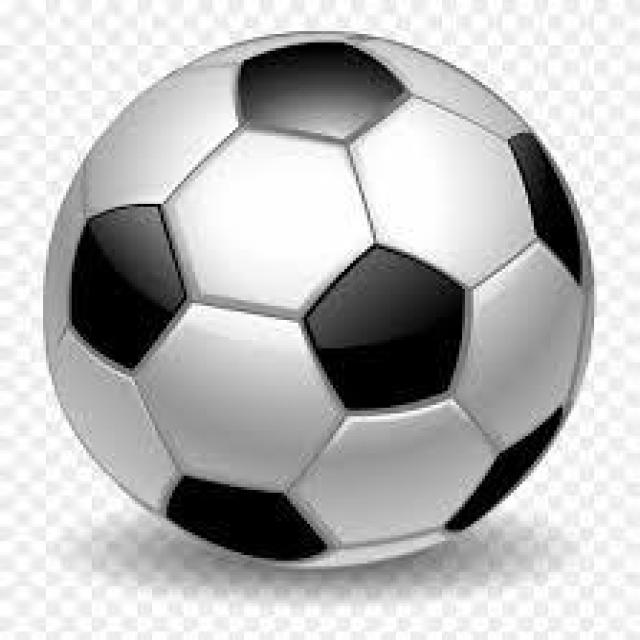Soccer Ball: (46, 28, 594, 572)
